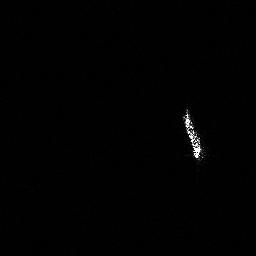ship: (177, 106, 209, 164)
